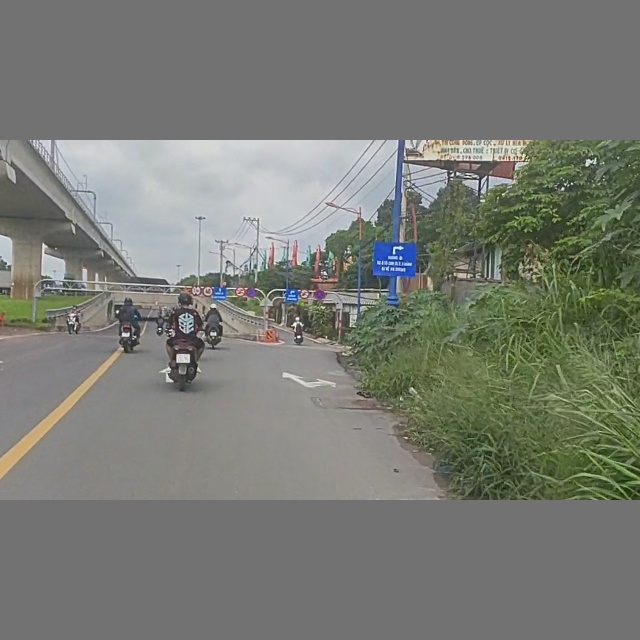P.107: (300, 289, 310, 299), (236, 287, 245, 297)
P.117*: (191, 285, 201, 297)
P.127*40: (203, 286, 213, 297)
P.130: (314, 289, 326, 300), (246, 287, 257, 298)
